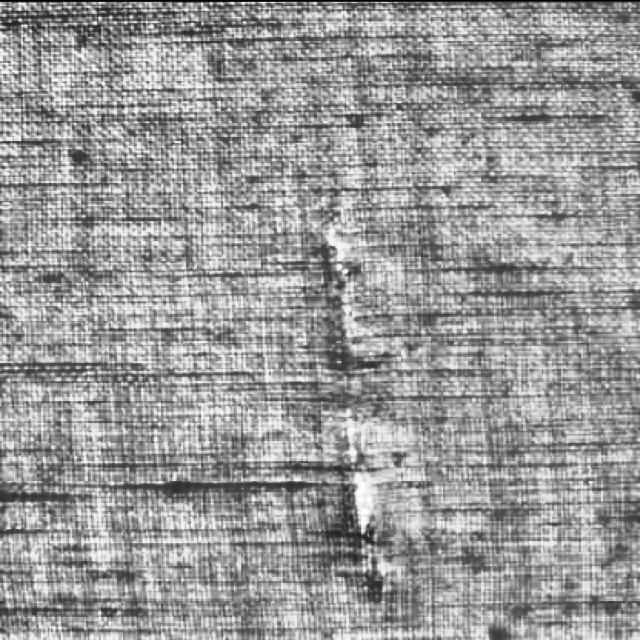thread_error: (303, 186, 406, 640)
